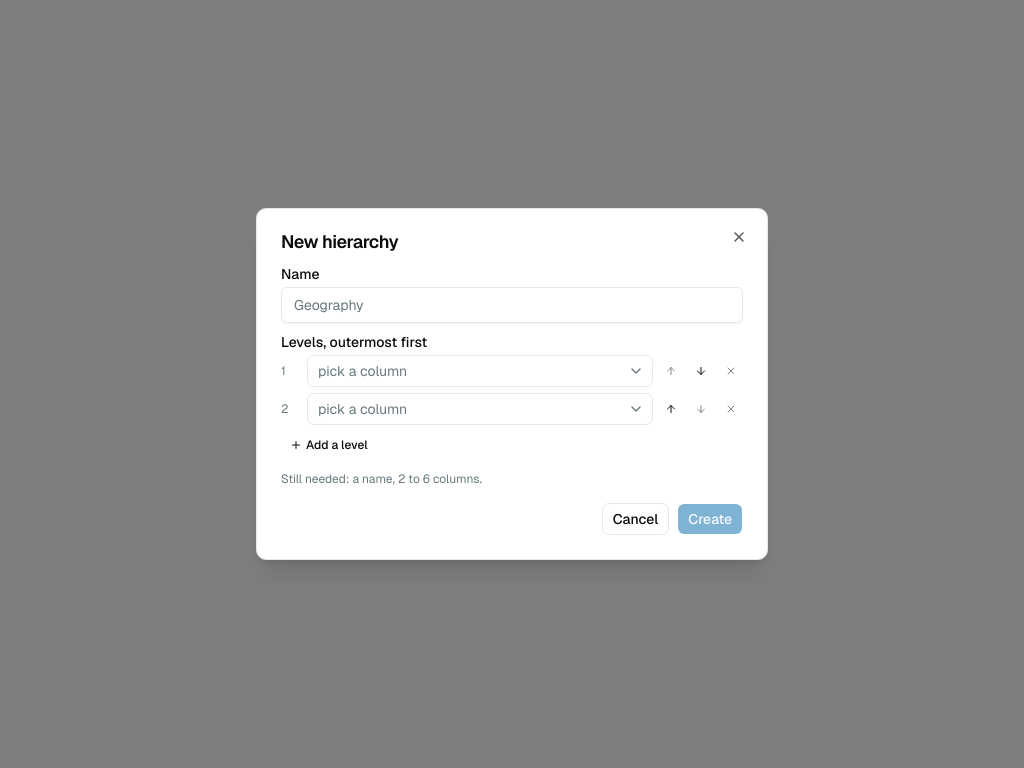
Test: HierarchyDialog › adds levels up to six and never fewer than two
This screenshot has width=1024, height=768.
Expected: the button named "Remove level 1" is disabled, [719,359,743,383]
Click the button "Add a level". click: (329, 445)
box: [281,431,377,459]
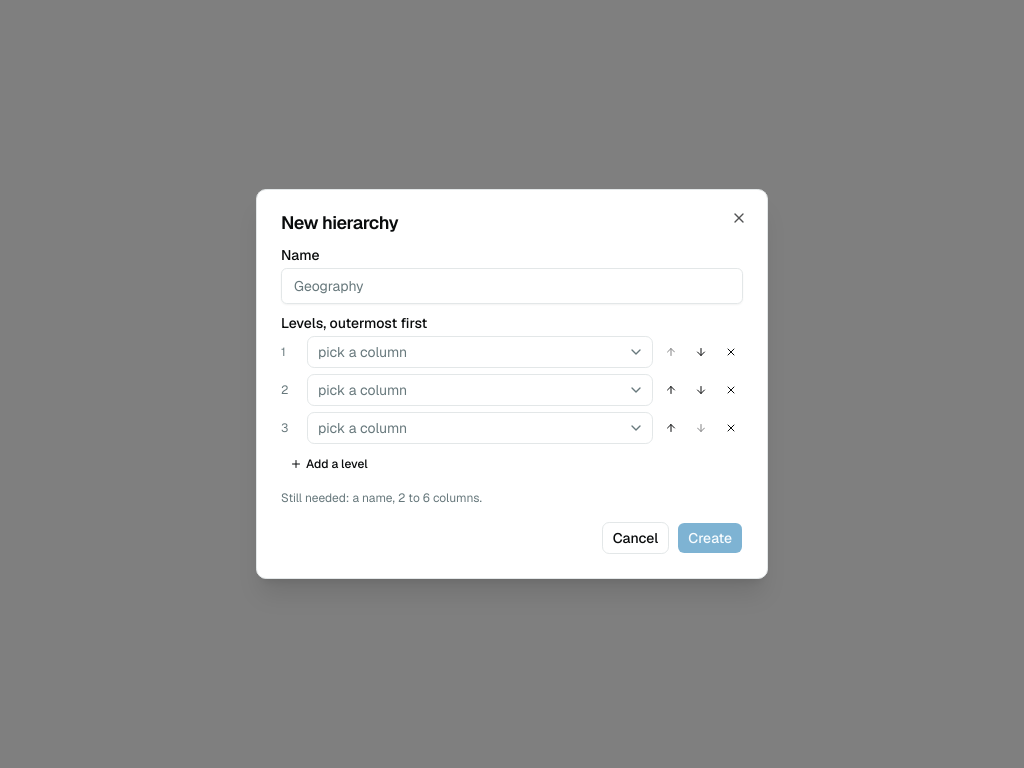
Click the button "Add a level". click: (329, 464)
box: [281,450,377,478]
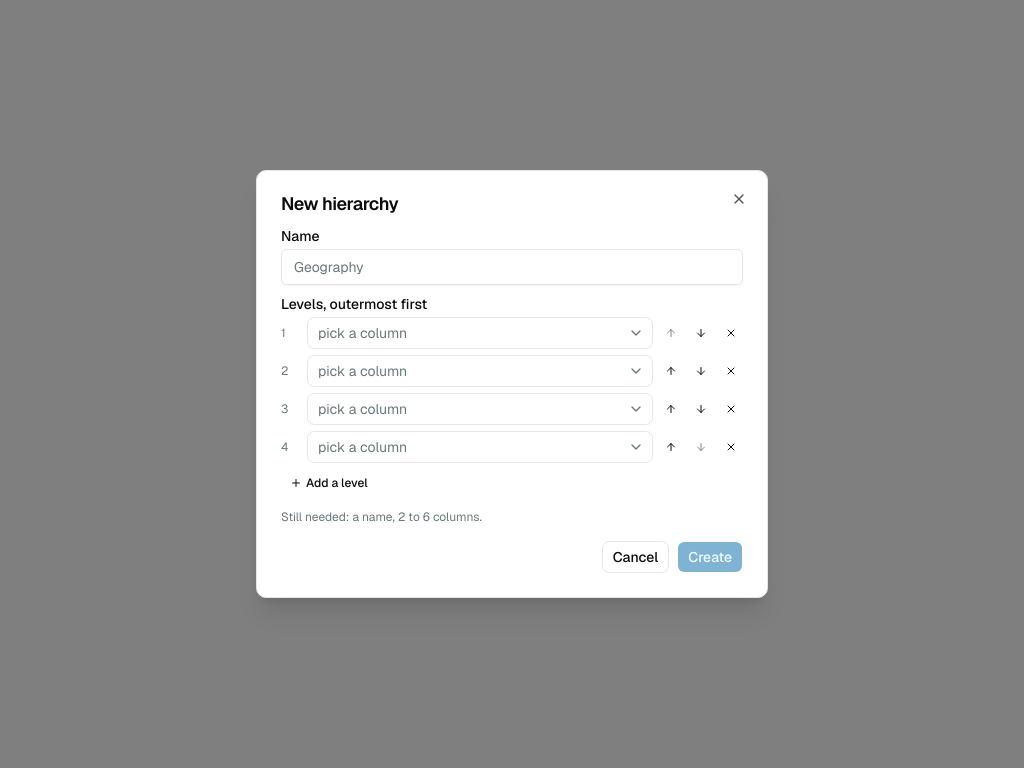
Click the button "Add a level". click: (329, 483)
box: [281,469,377,497]
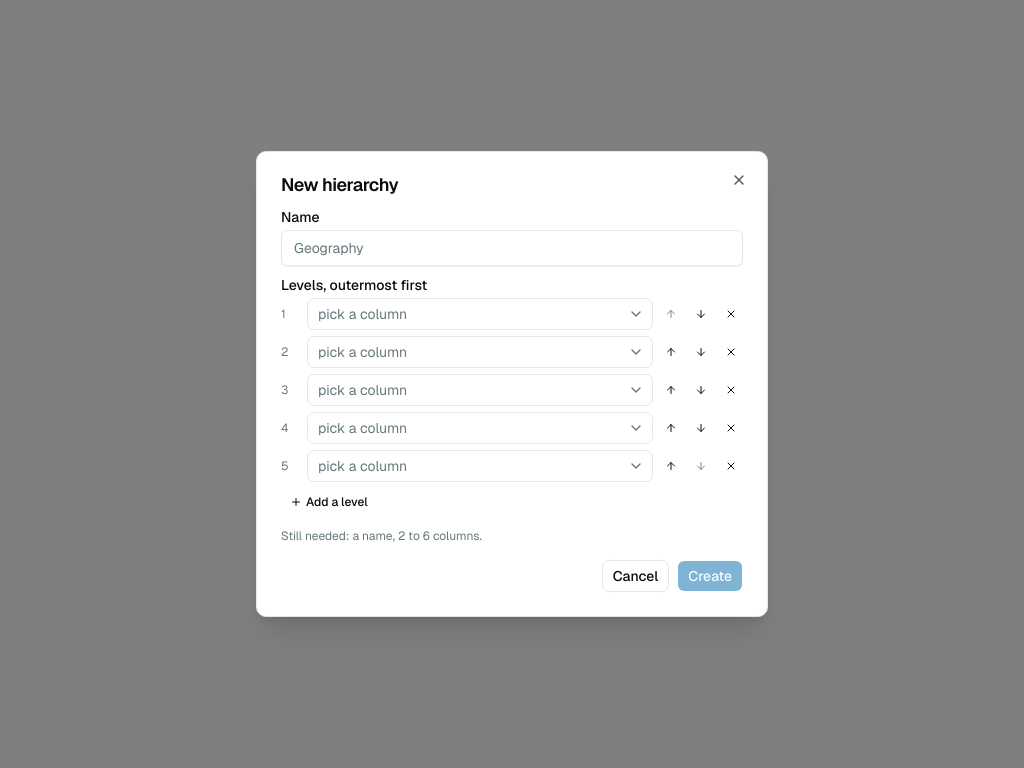
Click the button "Add a level". click: (329, 502)
box: [281,488,377,516]
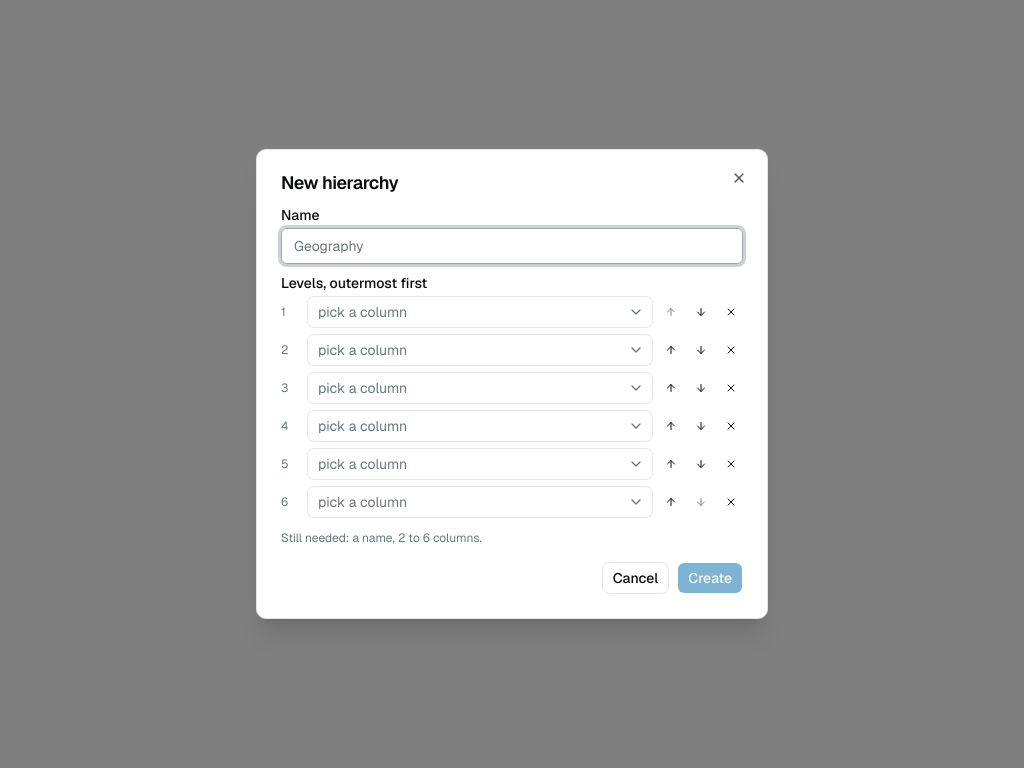
Expected: the number of dropdowns labelled "pick a column ▼" is 6, [307,296,653,328]; [307,334,653,366]; [307,372,653,404]; [307,410,653,442]; [307,448,653,480]; [307,486,653,518]
Expected: the button "Add a level" is gone
